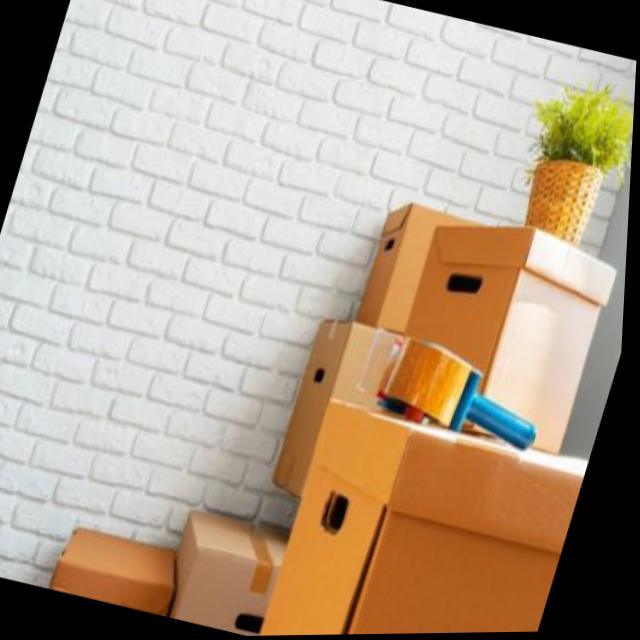box: (261, 395, 595, 637), (374, 210, 631, 483), (254, 302, 440, 561), (343, 162, 471, 365), (164, 487, 313, 638), (49, 503, 210, 622)
